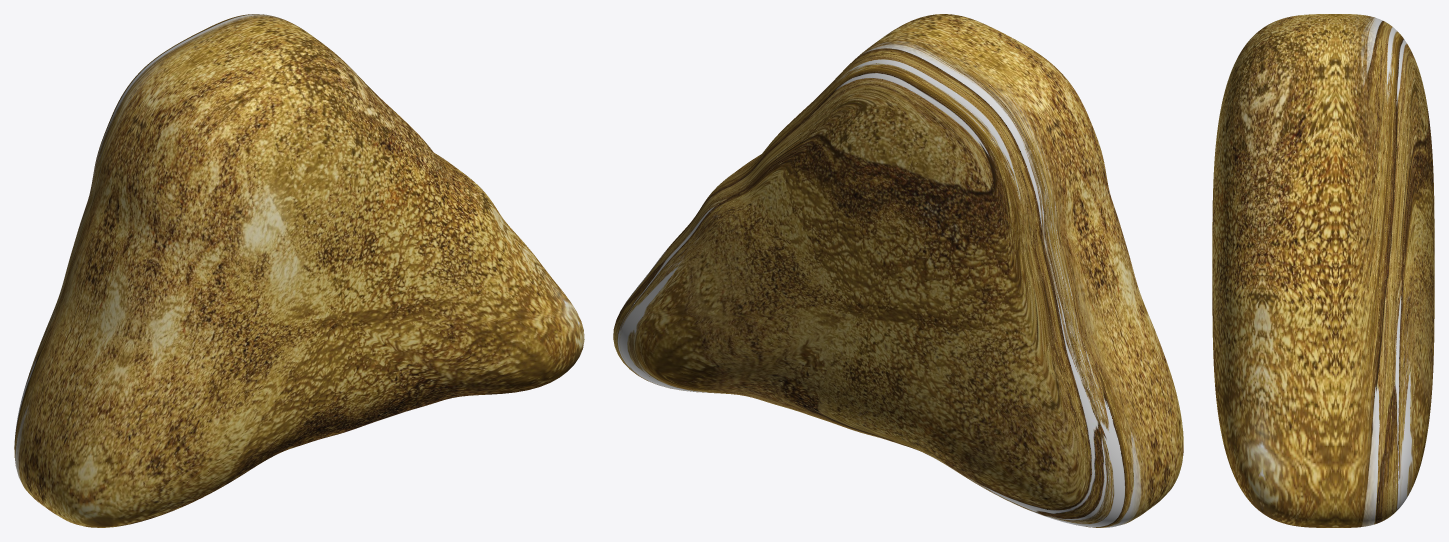
File: gold_a_3d-model.glb
3 views of the same model, side by side, from view 1: azimuth 30°, elevation 25°; view 2: azimuth 150°, elevation 25°; view 3: azimuth 270°, elevation 25° (orthographic). The views are drawn at different scales.
Visible parts, largest first — view 1: gold_a; view 2: gold_a; view 3: gold_a.
Part boxes in pixels (bbox=[...]): gold_a: bbox=[14, 14, 584, 527]; gold_a: bbox=[613, 14, 1183, 527]; gold_a: bbox=[1212, 14, 1434, 527].
Bounding box in the file's own units: 0.016 × 0.0127 × 0.00617.
1 material, 1 textured.
